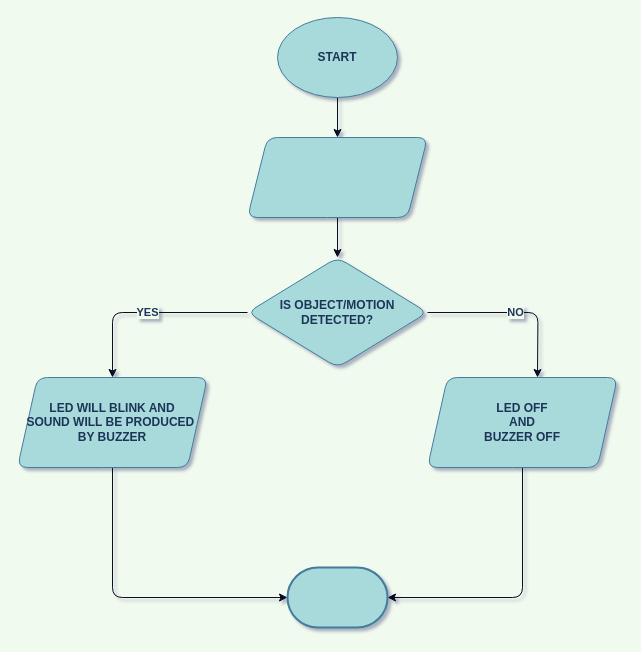
This 641x652 diagram has some shape labels left out. The centre of each missing label's shape, as x and y in pixels:
END: the point at 337,597
PIR SENSOR DETECTS THE OBJECT/MOTION OF OBJECT: the point at 337,177
